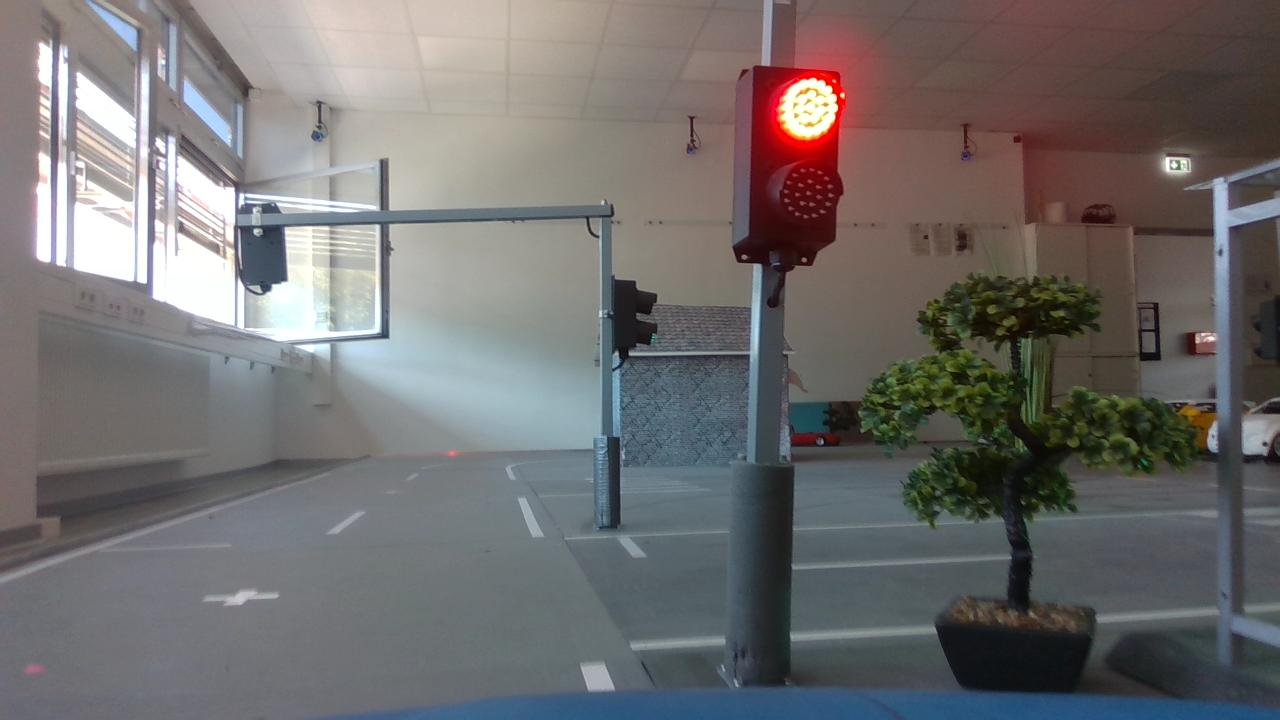traffic_light_red: (721, 48, 854, 278)
